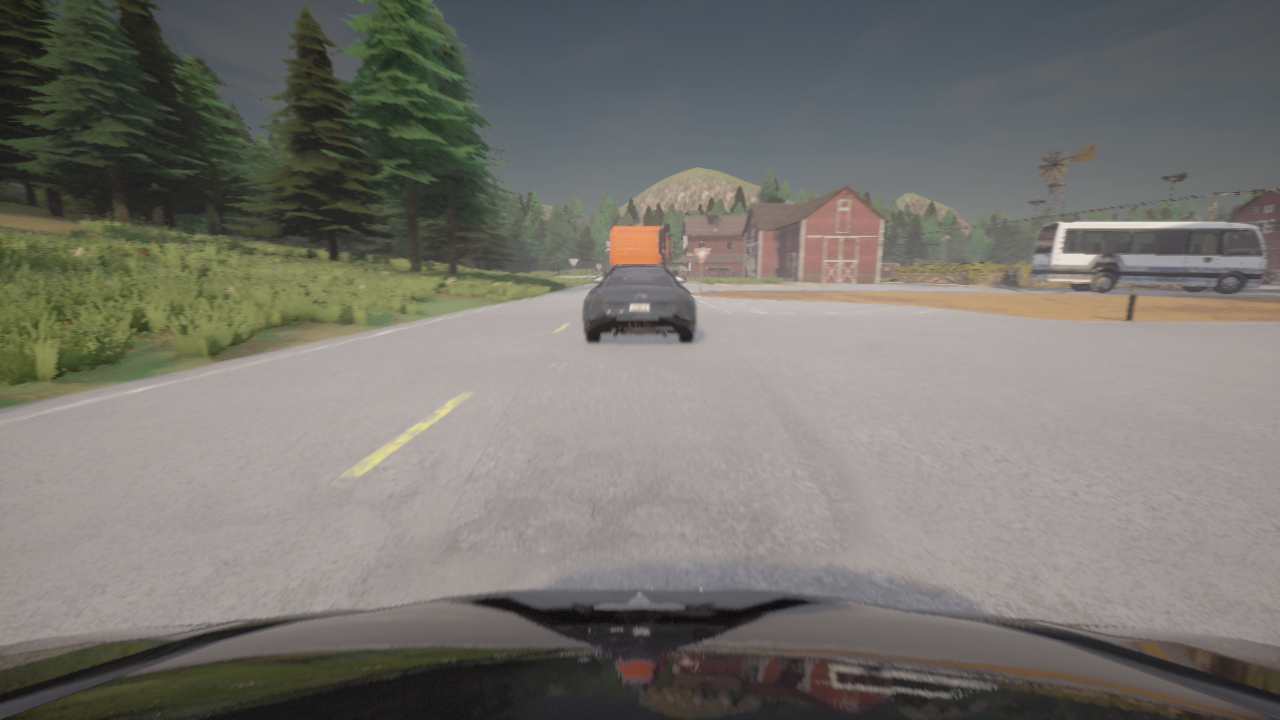cyclist: (0, 588, 1279, 719), (1029, 221, 1267, 294), (584, 265, 696, 342), (603, 224, 677, 278), (1262, 269, 1279, 284), (601, 274, 603, 276)
pedestrian: (1008, 263, 1015, 286), (1016, 263, 1023, 286), (1006, 263, 1011, 285), (1030, 281, 1041, 286), (997, 271, 1000, 285)
